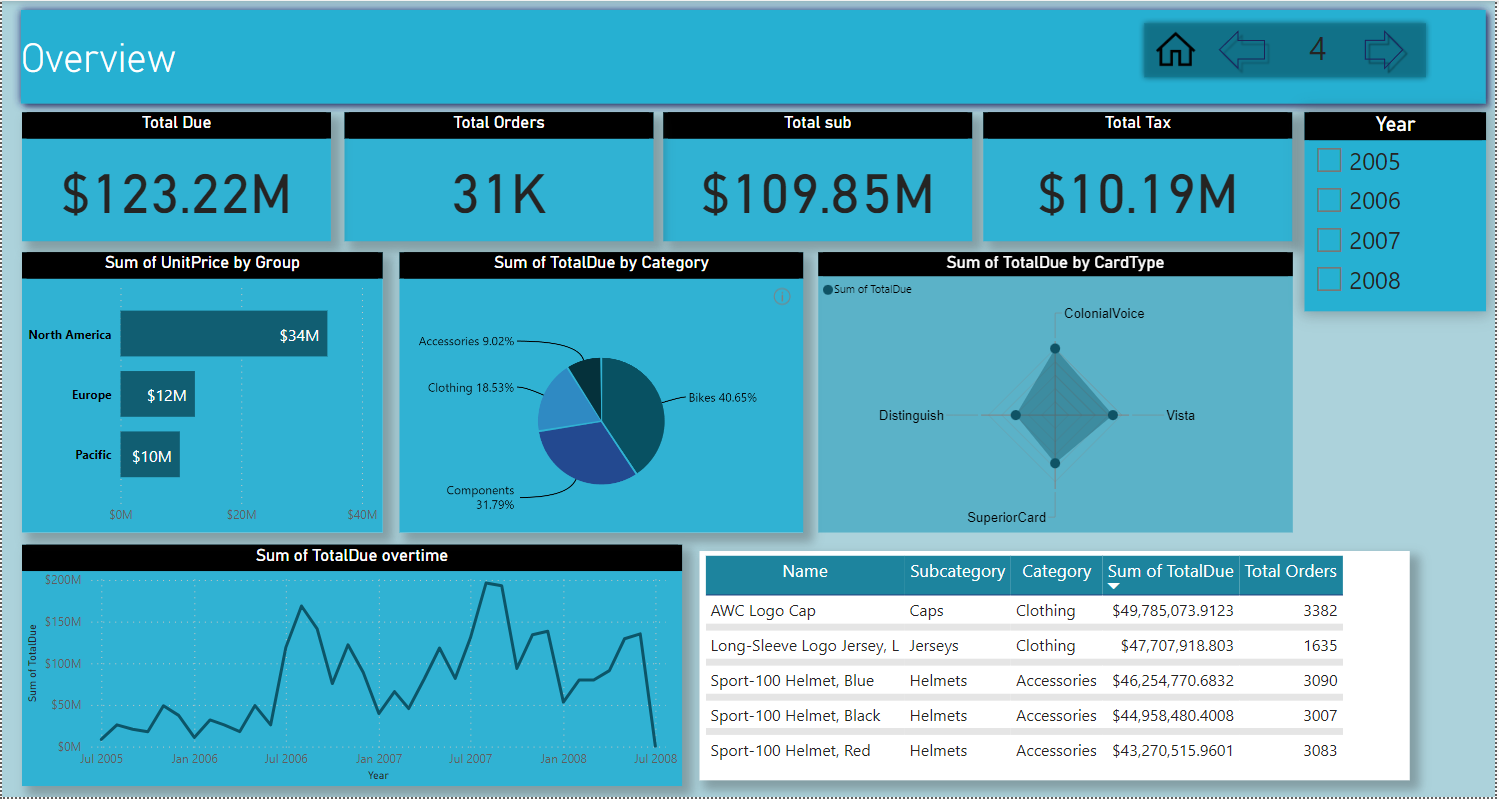

What the dashboard file says about the page in this screenshot:
{"tool":"powerbi","page":{"name":"Overview","canvas":[1500,800],"ordinal":1},"visuals":[{"type":"shape","box":[10.9,0,1489.7,111.7],"z":0},{"type":"shape","box":[1141.1,16.3,295.5,66.7],"z":1000},{"type":"image","box":[1141.1,23.1,74.9,53.1],"z":2000},{"type":"textbox","box":[1308.6,20.4,39.5,59.9],"z":3000},{"type":"shape","box":[1363,23.1,51.7,53.1],"z":4000},{"type":"shape","box":[1216,23.1,59.9,53.1],"z":5000},{"type":"card","title":"Total sub","fields":{"Values":["Measure.Total subtotal"]},"box":[664.5,111.7,310.5,129.4],"z":6000},{"type":"card","title":"Total Orders","fields":{"Values":["Measure.Total Orders"]},"box":[344.5,111.7,310.5,129.4],"z":7000},{"type":"card","title":"Total Due","fields":{"Values":["Measure.Total Due"]},"box":[20.4,111.7,310.5,129.4],"z":8000},{"type":"card","title":"Total Tax","fields":{"Values":["Measure.Total tax"]},"box":[985.8,111.7,310.5,129.4],"z":9000},{"type":"slicer","title":"Year","fields":{"Values":["Dimdate.Date.Variation.Date Hierarchy.Year"]},"box":[1308.6,111.7,182.5,200.2],"z":10000},{"type":"slicer","title":"Month","fields":{"Values":["Dimdate.Date.Variation.Date Hierarchy.Month"]},"box":[1308.6,321.4,182.5,468.4],"z":11000},{"type":"lineChart","title":"Sum of TotalDue overtime","fields":{"Y":["Sum(Fact Sales.TotalDue)"],"Category":["Dimdate.Date.Variation.Date Hierarchy.Year","Dimdate.Date.Variation.Date Hierarchy.Quarter","Dimdate.Date.Variation.Date Hierarchy.Month"]},"box":[20.4,531,663.1,257.4],"z":12000},{"type":"ZoomChartsAdvancedWaterfallE77E4ED357DC402ABA005987437CF900","title":"TotalDue  by Month","fields":{"Values1":["Sum(Fact Sales.TotalDue)"],"Category":["Dimdate.Date.Variation.Date Hierarchy.Month"]},"box":[694.4,531,601.9,257.4],"z":13000},{"type":"donutChart","title":"Sum of TotalDue by card type","fields":{"Y":["Sum(Fact Sales.TotalDue)"],"Category":["DIM CreditCard.CardType"]},"box":[20.4,253.3,411.2,266.9],"z":14000},{"type":"donutChart","fields":{"Category":["Dim Product.Category"],"Y":["Sum(Fact Sales.OrderQty)"]},"box":[441.2,253.3,378.5,266.9],"z":15000},{"type":"funnel","fields":{"Category":["Dim Product.Product.Name"],"Y":["Sum(Fact Sales.TotalDue)"]},"box":[832,253.3,464.3,266.9],"z":16000}]}

Visuals, with their boxes in screenshot pixels (x1, y1, x2, y2), scaled from the page's 1500x800 canvas onto the 1499x799 screenshot:
shape: BBox(11, 0, 1498, 112)
shape: BBox(1140, 16, 1436, 83)
image: BBox(1140, 23, 1215, 76)
textbox: BBox(1308, 20, 1347, 80)
shape: BBox(1362, 23, 1414, 76)
shape: BBox(1215, 23, 1275, 76)
"Total sub" card: BBox(664, 112, 974, 241)
"Total Orders" card: BBox(344, 112, 655, 241)
"Total Due" card: BBox(20, 112, 331, 241)
"Total Tax" card: BBox(985, 112, 1295, 241)
"Year" slicer: BBox(1308, 112, 1490, 312)
"Month" slicer: BBox(1308, 321, 1490, 789)
"Sum of TotalDue overtime" lineChart: BBox(20, 530, 683, 787)
"TotalDue  by Month" ZoomChartsAdvancedWaterfallE77E4ED357DC402ABA005987437CF900: BBox(694, 530, 1295, 787)
"Sum of TotalDue by card type" donutChart: BBox(20, 253, 431, 520)
donutChart - Dim Product.Category x Sum(Fact Sales.OrderQty): BBox(441, 253, 819, 520)
funnel - Dim Product.Product.Name x Sum(Fact Sales.TotalDue): BBox(831, 253, 1295, 520)
